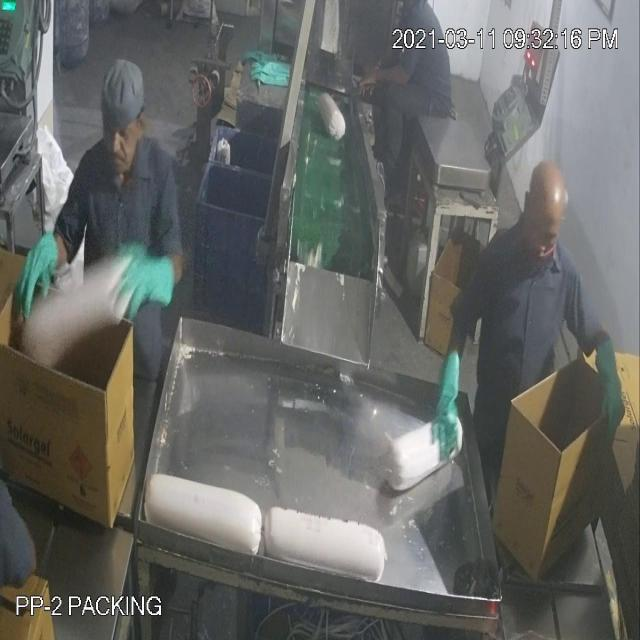No_Gloves: (37, 42, 609, 408)
